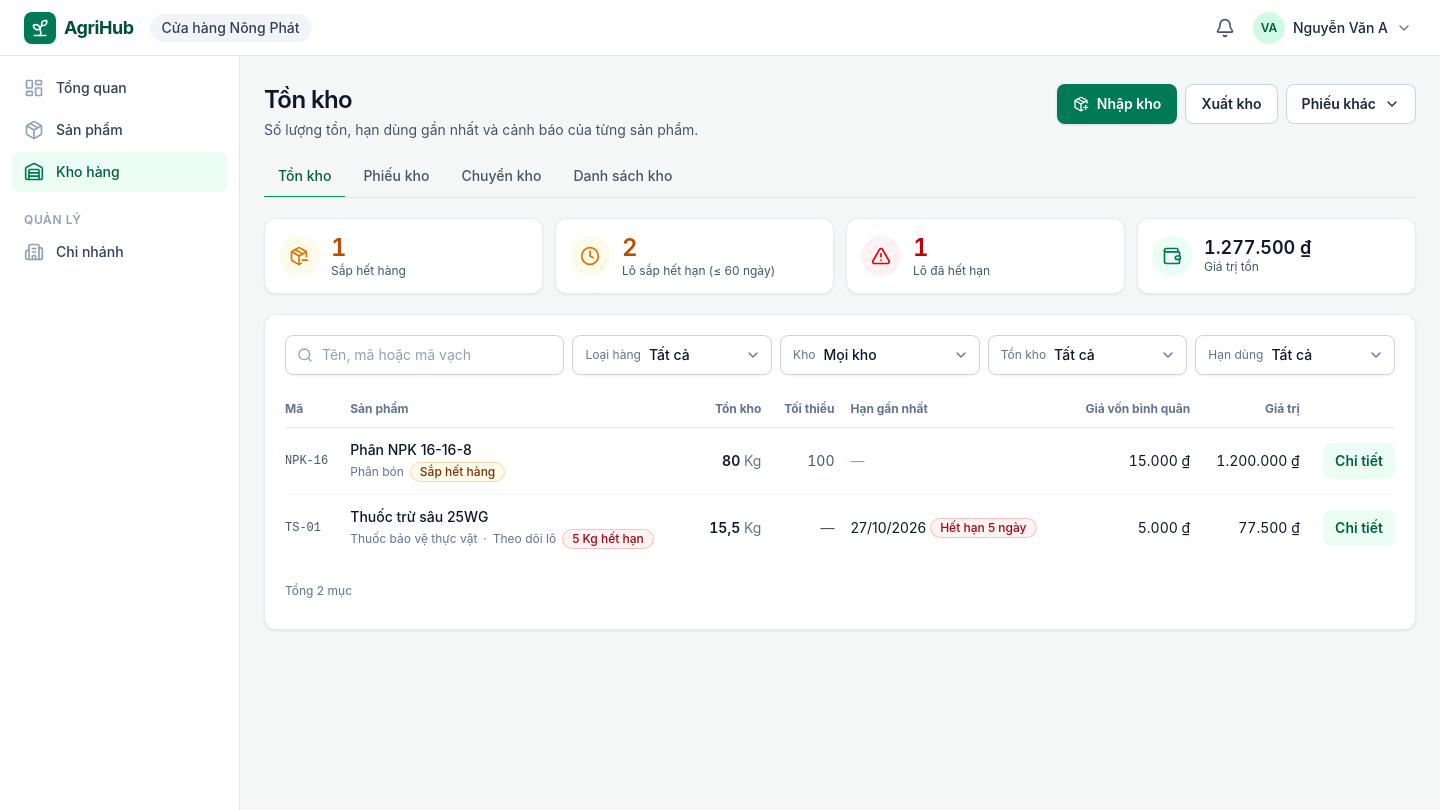
it: trang Tồn kho › thẻ kho chia trang trong hộp chi tiết: 10 dòng mỗi trang, bấm "Sau" gửi trang kế
Click the button with aria-label "Chi tiết Thuốc trừ sâu 25WG" at (1359, 528), box x1=1323 y1=510 x2=1395 y2=546
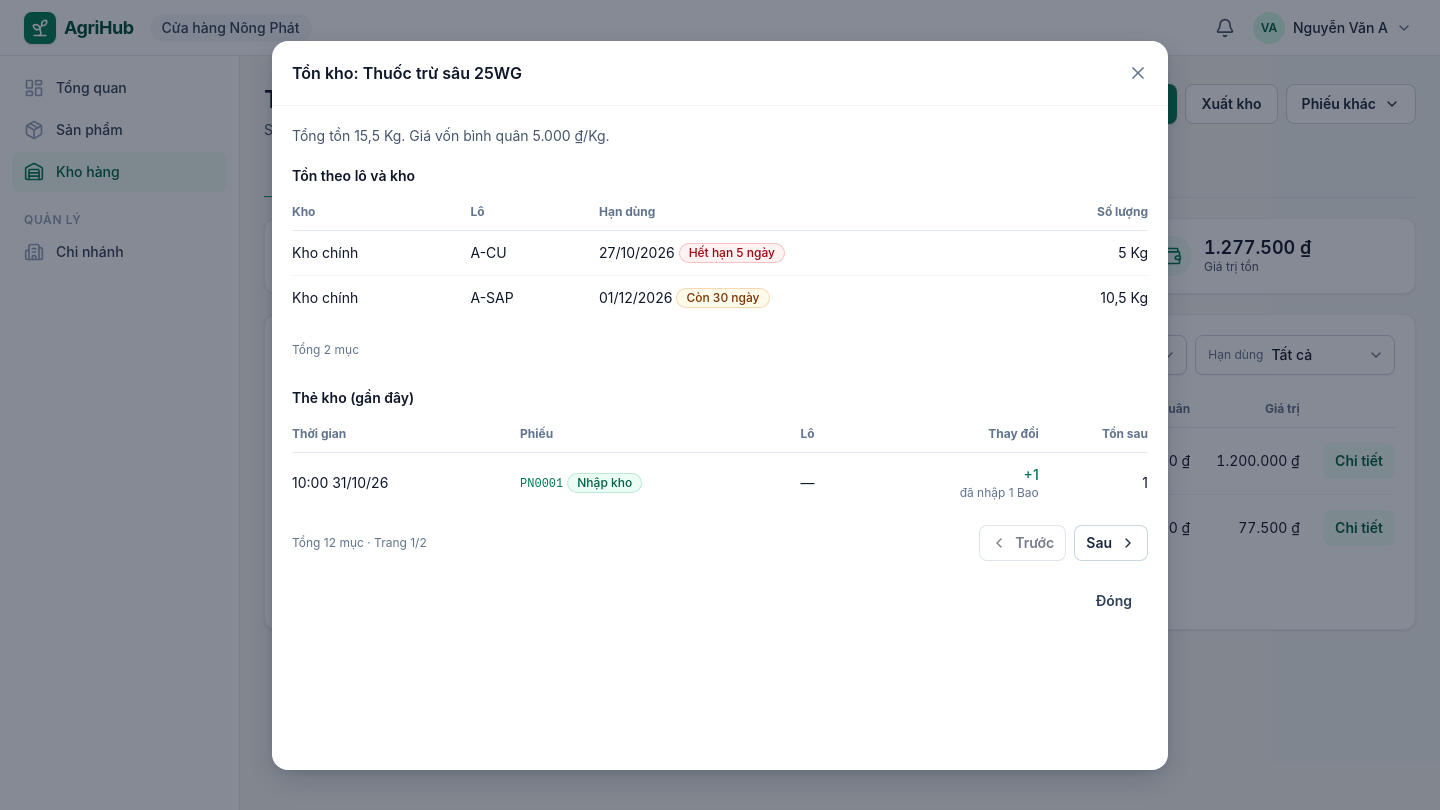
Result: the text "Tổng 12 mục · Trang 1/2" is shown at x1=292 y1=534 x2=427 y2=550
Click the button "Sau" at (1111, 542), box x1=1074 y1=524 x2=1148 y2=560
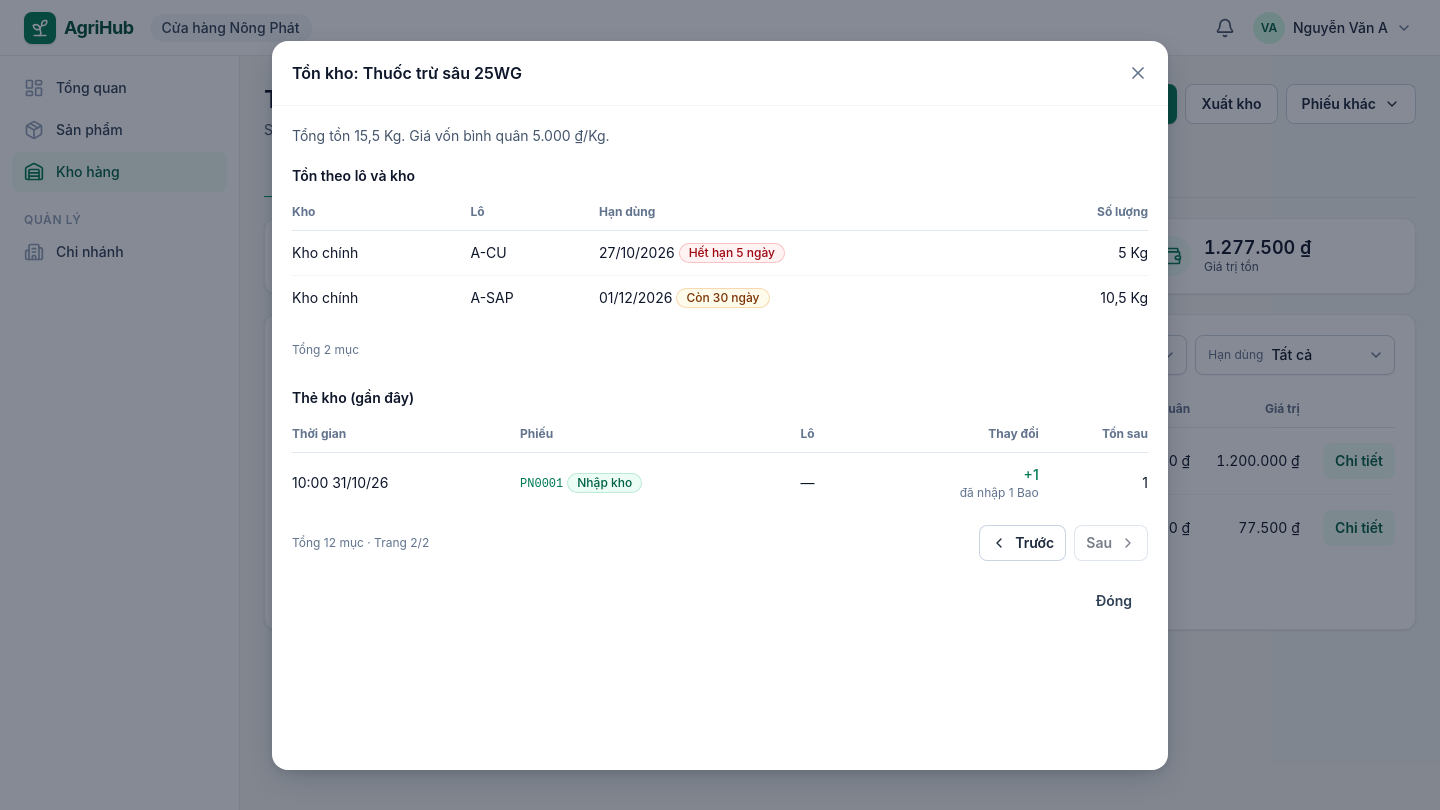
Result: the text "Tổng 12 mục · Trang 2/2" is shown at x1=292 y1=534 x2=429 y2=550
